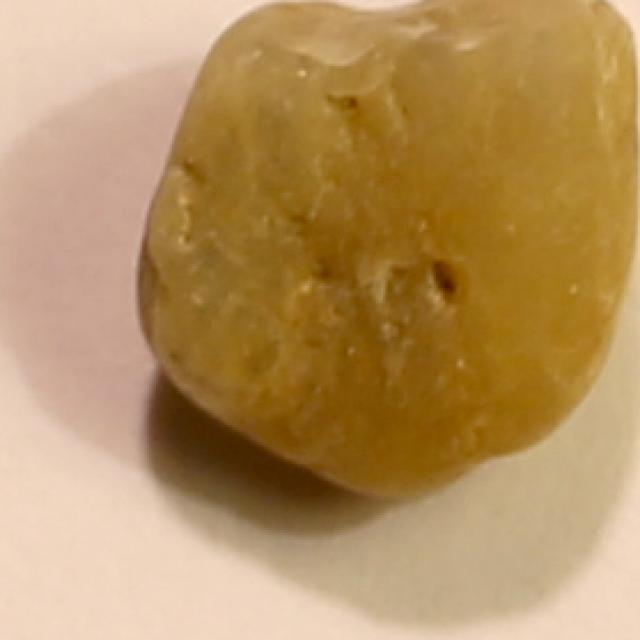stone: (131, 3, 640, 508)
